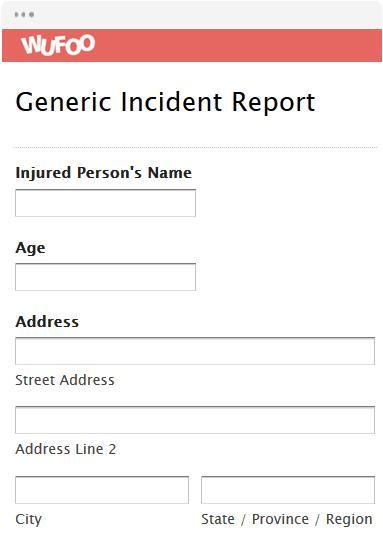input: (16, 407, 376, 435), (16, 338, 376, 365), (17, 265, 197, 293), (17, 191, 197, 218), (202, 476, 376, 503), (16, 477, 189, 503)
label: (13, 89, 321, 117), (16, 165, 193, 182), (197, 512, 375, 528), (14, 371, 117, 390), (13, 443, 119, 458), (15, 315, 81, 331), (14, 240, 46, 259), (14, 512, 44, 528)
